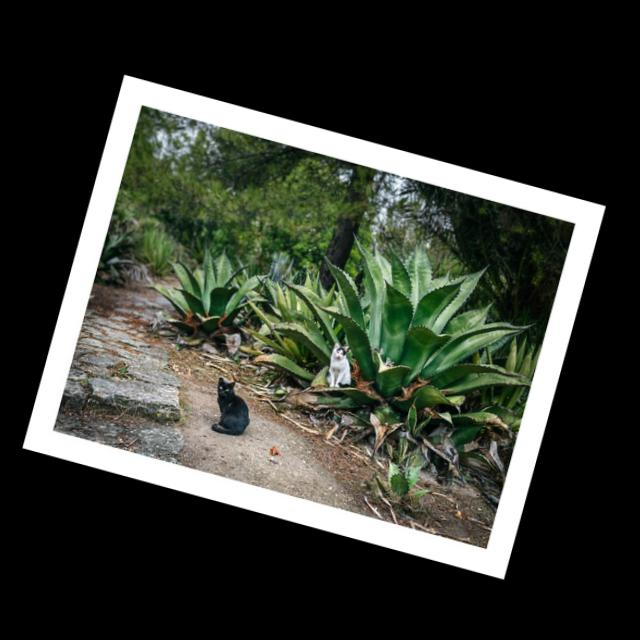animals: (203, 368, 260, 438)
